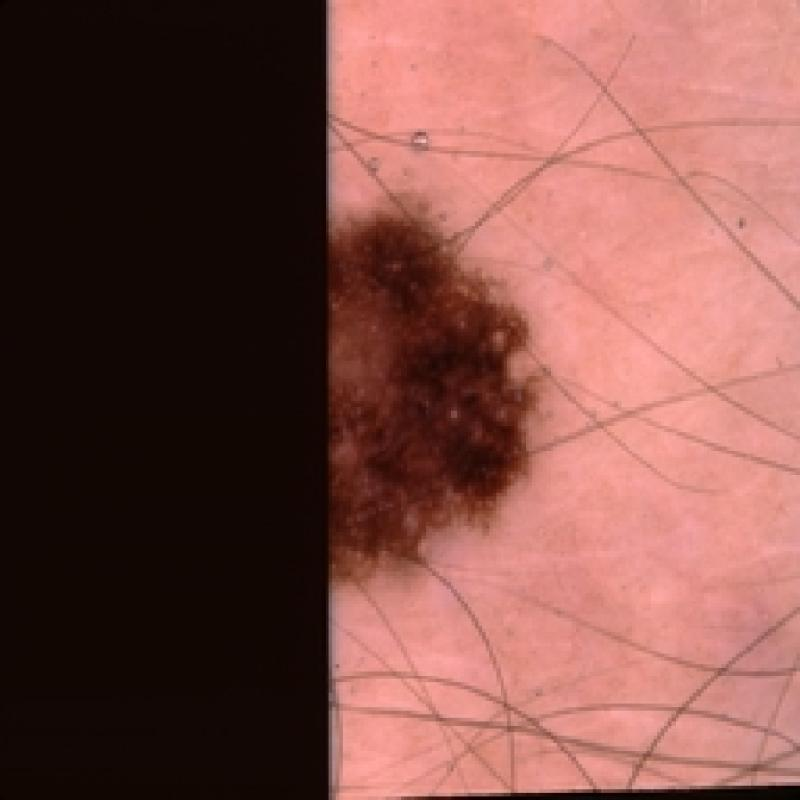malignant: (327, 203, 560, 617)
